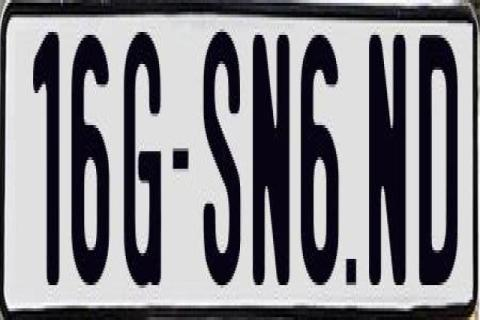0: (299, 35, 342, 303), (68, 32, 110, 285), (33, 29, 66, 291)
D: (416, 32, 460, 285)
G: (123, 32, 161, 296)
N: (366, 26, 404, 282), (252, 27, 290, 280)
S: (202, 27, 240, 280)
